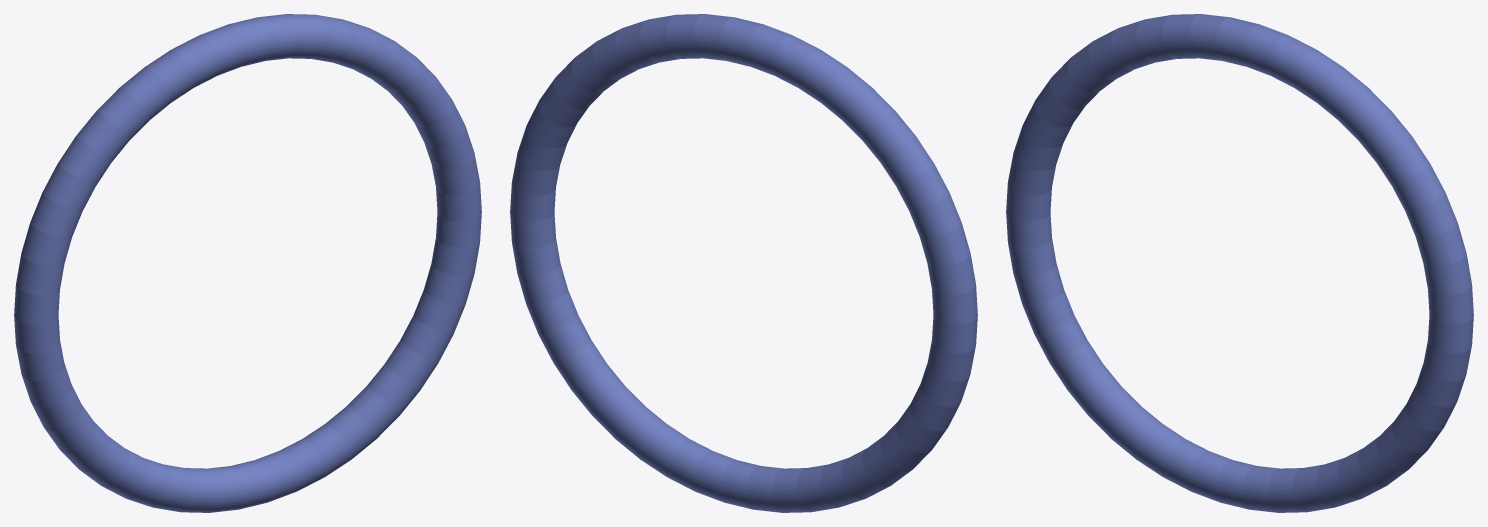
The picture shows the model from 3 angles, left to right: view 1: azimuth 30°, elevation 25°; view 2: azimuth 150°, elevation 25°; view 3: azimuth 330°, elevation 25°; orthographic projection.
Visible parts, largest first — view 1: world; view 2: world; view 3: world.
Boxes of the visible parts, bbox=[...] form: world: bbox=[14, 14, 481, 512]; world: bbox=[510, 14, 977, 512]; world: bbox=[1006, 14, 1473, 512].
Bounding box in the file's own units: 24 × 23.95 × 2.
